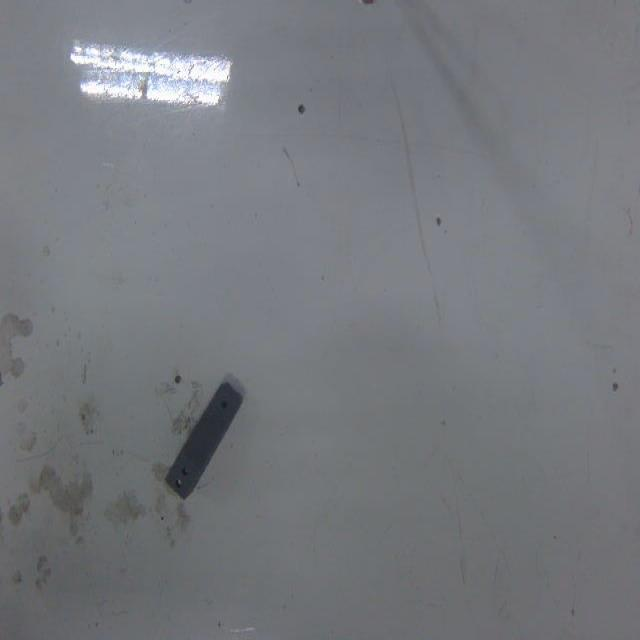grey: (162, 383, 250, 502)
head: (220, 400, 229, 410)
